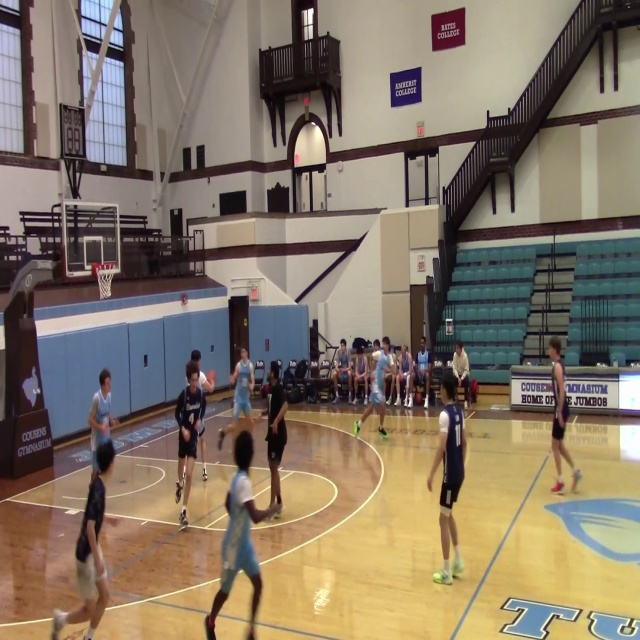Basketball: (199, 371, 214, 393), (207, 370, 216, 385), (217, 428, 225, 437)
